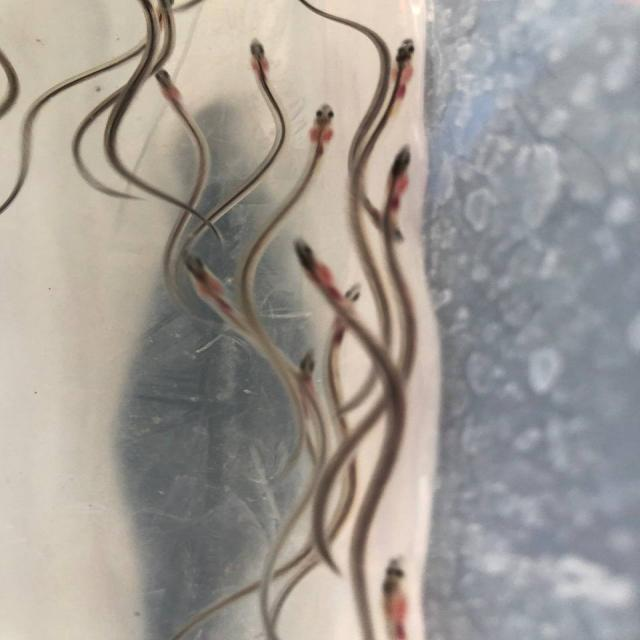glass_eel: (282, 230, 334, 288), (370, 549, 422, 607), (302, 96, 348, 154), (322, 282, 376, 331), (382, 30, 434, 80), (360, 207, 418, 250), (236, 30, 282, 84), (179, 248, 228, 298), (380, 140, 424, 192), (141, 65, 189, 107), (289, 348, 323, 380)
